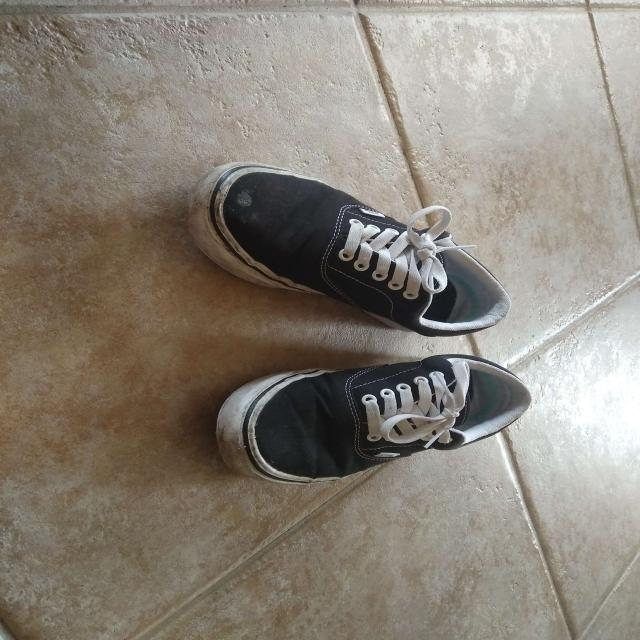shoe: (189, 162, 511, 337), (214, 352, 533, 485)
